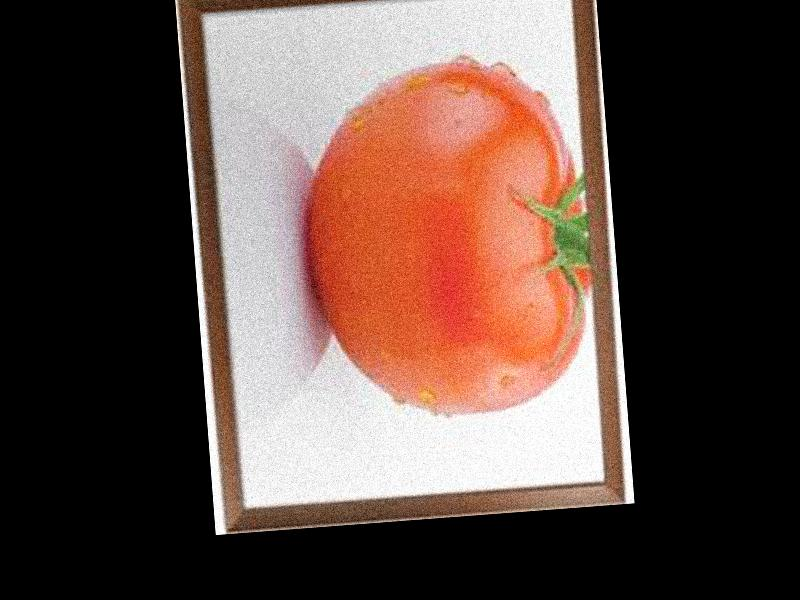Tomato: (294, 52, 602, 424)
